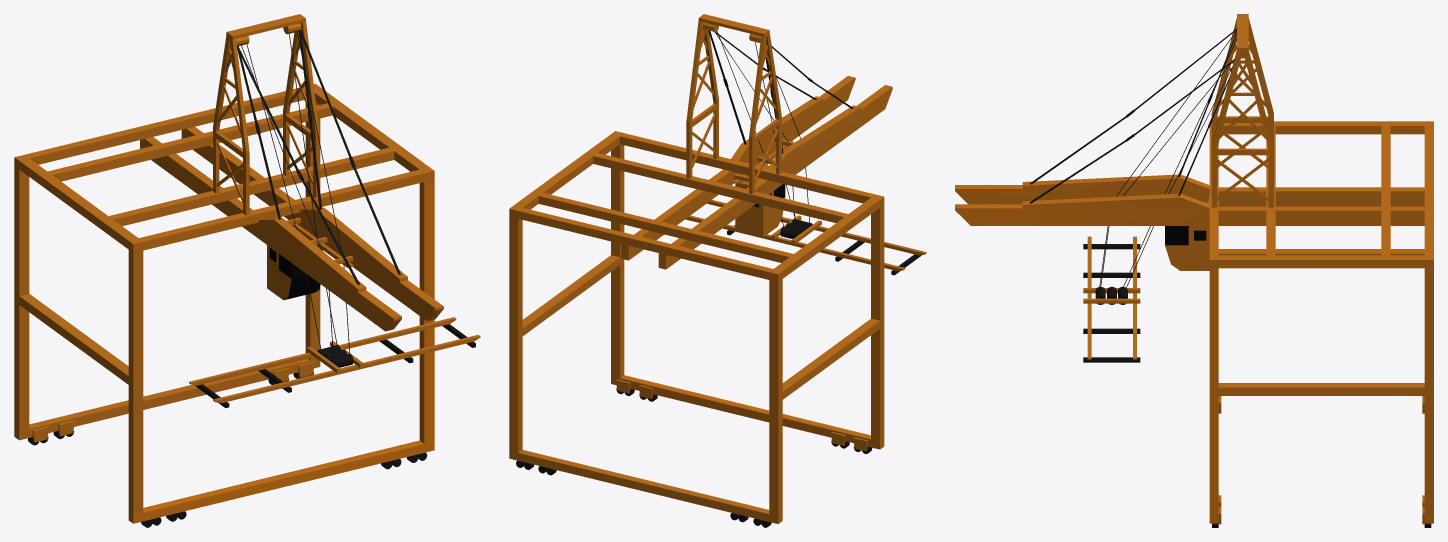
Rendered from SM_crane.FBX.
3 views of the same model, side by side, from view 1: azimuth 30°, elevation 25°; view 2: azimuth 150°, elevation 25°; view 3: azimuth 270°, elevation 25° (orthographic). The views are drawn at different scales.
Parts seen in each view (by area): view 1: crane_vertexpaint; view 2: crane_vertexpaint; view 3: crane_vertexpaint.
Part boxes in pixels (x1,y1,x2,y2): crane_vertexpaint: (14,14,480,527); crane_vertexpaint: (509,14,926,527); crane_vertexpaint: (955,14,1433,527).
Size of the model in its own units: 1443 by 2097 by 2106.
